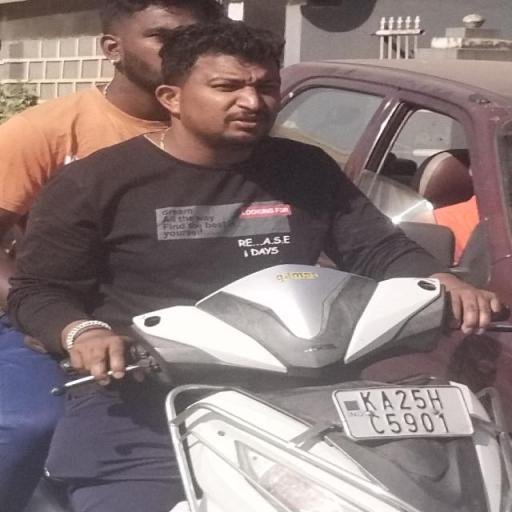bike: (9, 0, 512, 512), (496, 4, 512, 62)
numberplate: (334, 378, 476, 441)
withouthelmet: (163, 27, 279, 139), (103, 0, 203, 77)
